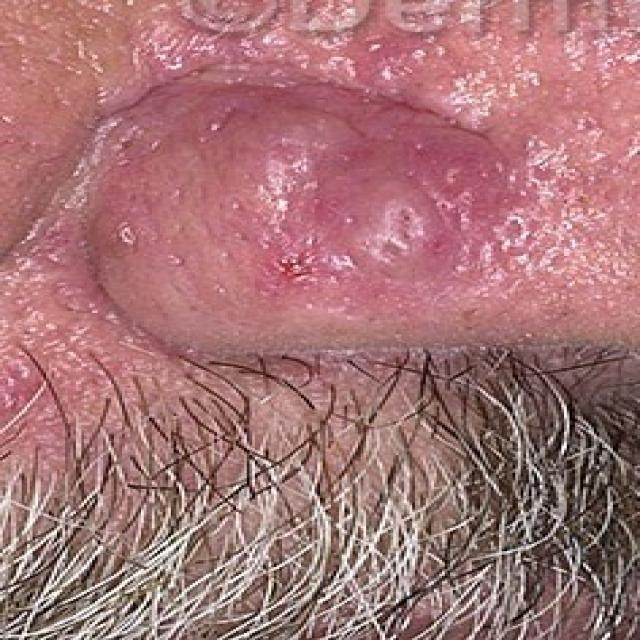Rosacea: (95, 24, 594, 306)
